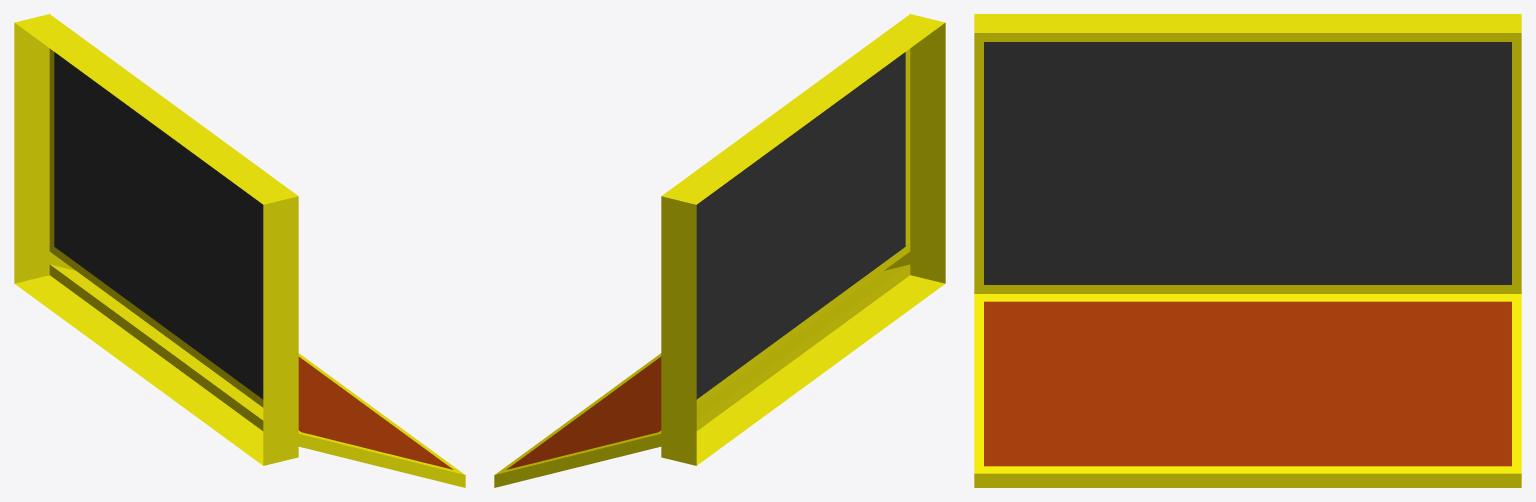
The picture shows the model from 3 angles, left to right: view 1: azimuth 30°, elevation 25°; view 2: azimuth 150°, elevation 25°; view 3: azimuth 270°, elevation 25°; orthographic projection. The views are drawn at different scales.
Parts seen in each view (by area): view 1: Surface, Screen1, Screen2; view 2: Surface, Screen1, Screen2; view 3: Screen1, Screen2, Surface.
Part boxes in pixels (x1,y1,x2,y2): Surface: (14,14,465,487); Screen1: (54,52,263,399); Screen2: (298,356,453,469); Surface: (494,14,945,487); Screen1: (696,52,905,399); Screen2: (506,356,661,469); Screen1: (984,42,1511,284); Screen2: (984,301,1511,466); Surface: (974,14,1521,487).
Size of the model in its own units: 63.56 by 99.92 by 136.
